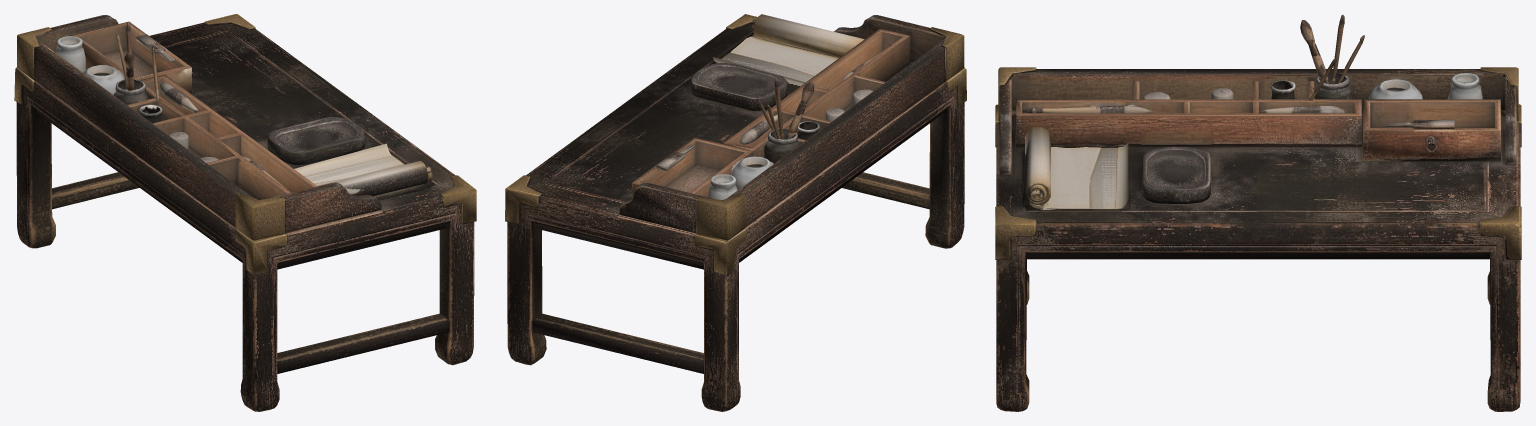
Rendered from tripo_convert_a669ac48-819b-47ce-b16f-cfc377c118c6.fbx.
3 views of the same model, side by side, from view 1: azimuth 30°, elevation 25°; view 2: azimuth 150°, elevation 25°; view 3: azimuth 270°, elevation 25° (orthographic). The views are drawn at different scales.
Parts seen in each view (by area): view 1: tripo_node_a669ac48; view 2: tripo_node_a669ac48; view 3: tripo_node_a669ac48.
Part boxes in pixels (x1,y1,x2,y2): tripo_node_a669ac48: (14, 14, 476, 411); tripo_node_a669ac48: (505, 14, 966, 411); tripo_node_a669ac48: (995, 14, 1521, 411).
Size of the model in its own units: 0.5371 by 0.623 by 0.998.
Materials: 1 (1 with a texture image).
